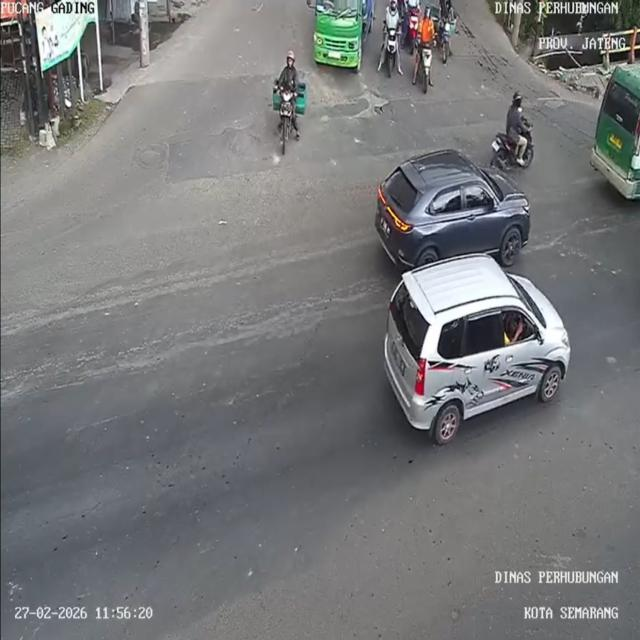motorcycle: (492, 129, 532, 174), (278, 86, 297, 152), (412, 46, 437, 96), (382, 26, 401, 78), (442, 19, 454, 66), (409, 10, 420, 50)
person: (410, 9, 438, 86), (378, 0, 403, 75), (504, 90, 528, 150), (278, 49, 302, 92), (440, 0, 454, 22)
rider_region: (269, 46, 306, 157), (492, 89, 536, 172), (416, 6, 437, 92), (380, 0, 402, 79), (436, 0, 456, 61), (402, 0, 421, 52)
